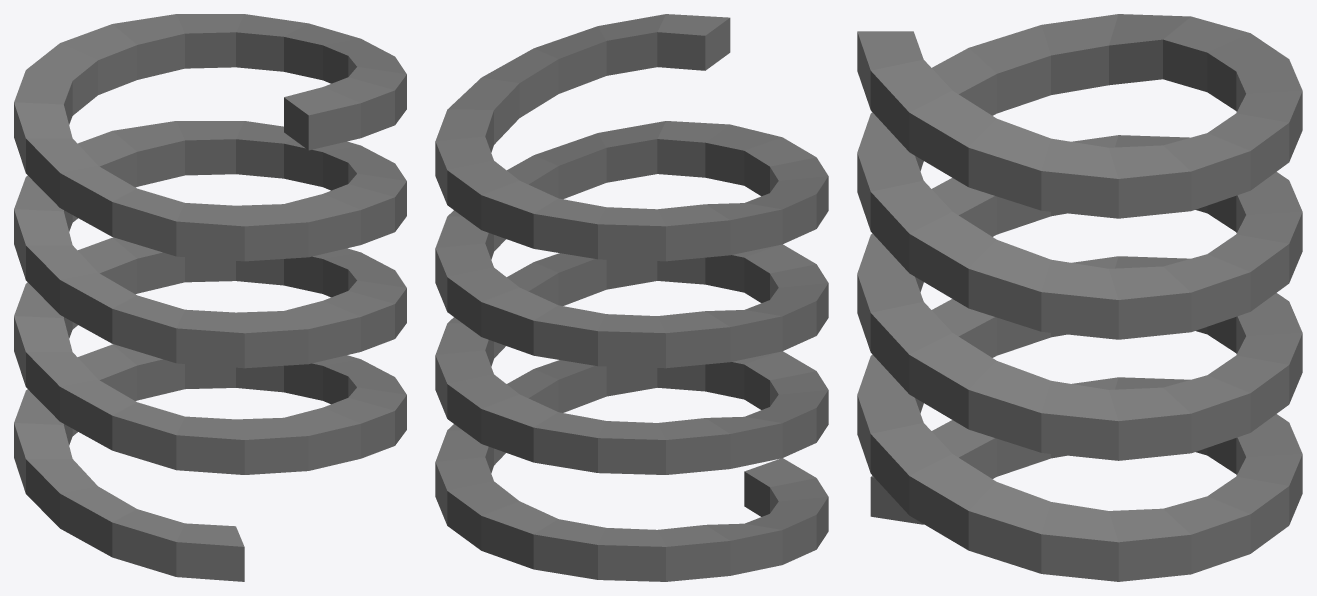
File: kiekura.fbx
The picture shows the model from 3 angles, left to right: view 1: azimuth 30°, elevation 25°; view 2: azimuth 150°, elevation 25°; view 3: azimuth 270°, elevation 25°; orthographic projection. The views are drawn at different scales.
Parts seen in each view (by area): view 1: Cylinder; view 2: Cylinder; view 3: Cylinder.
Boxes of the visible parts, x1,y1,x2,y2 form: Cylinder: (14, 14, 406, 581); Cylinder: (435, 14, 828, 581); Cylinder: (857, 14, 1302, 581).
Bounding box in the file's own units: 1.97 × 2 × 2.56.
